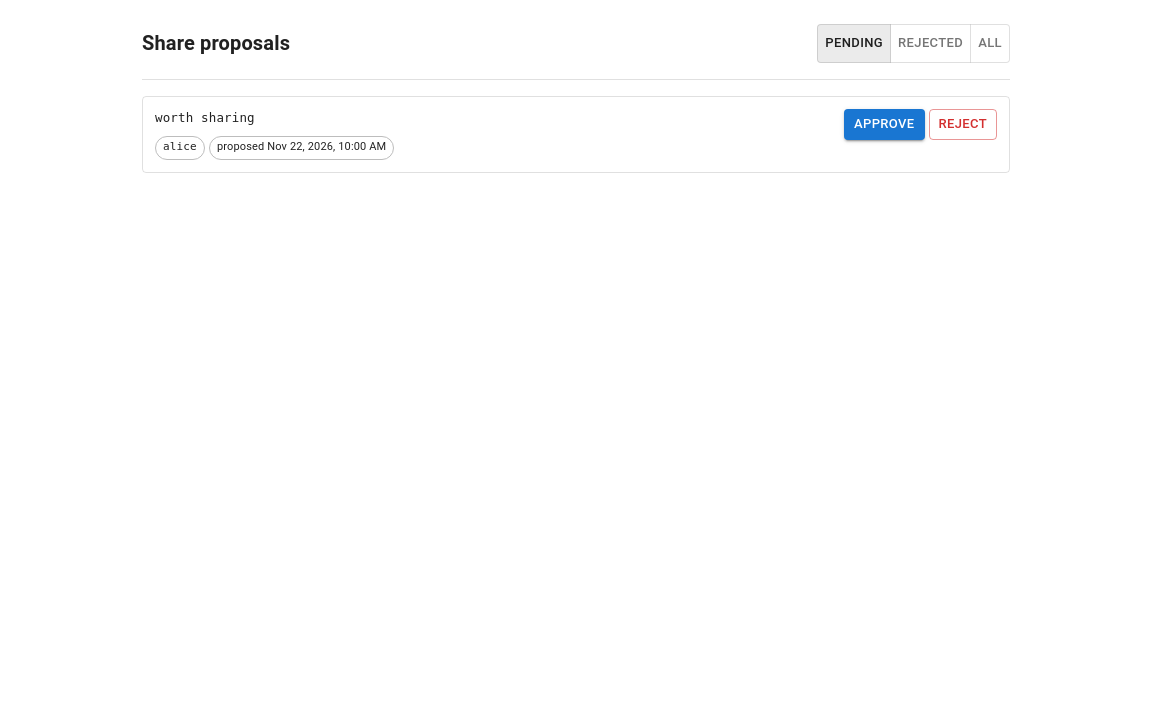
it: admin proposals tab (oi38) › 409 on approve shows the re-propose message and a chip, no silent move
Expected: the text "worth sharing" is shown, left=155, top=110, right=255, bottom=125
Click the button "Approve": (884, 124) left=844, top=109, right=924, bottom=140
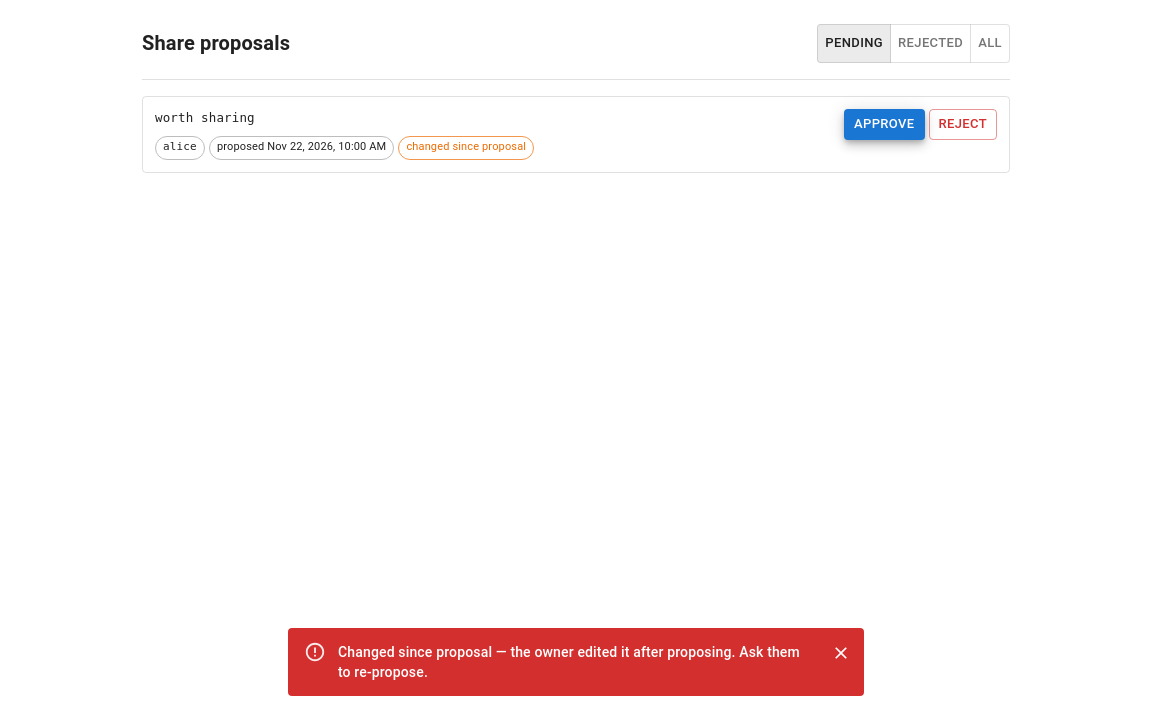
Expected: the text "Changed since proposal" is shown, left=338, top=644, right=800, bottom=680
Expected: the text "changed since proposal" is shown, left=399, top=139, right=533, bottom=156
